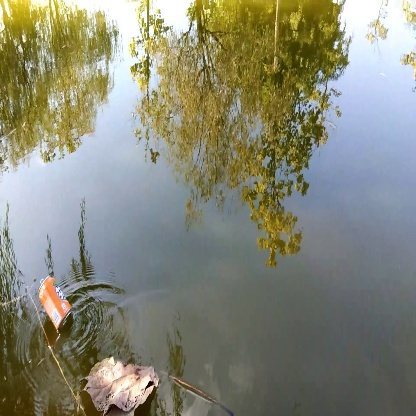bottle: (36, 272, 82, 330)
